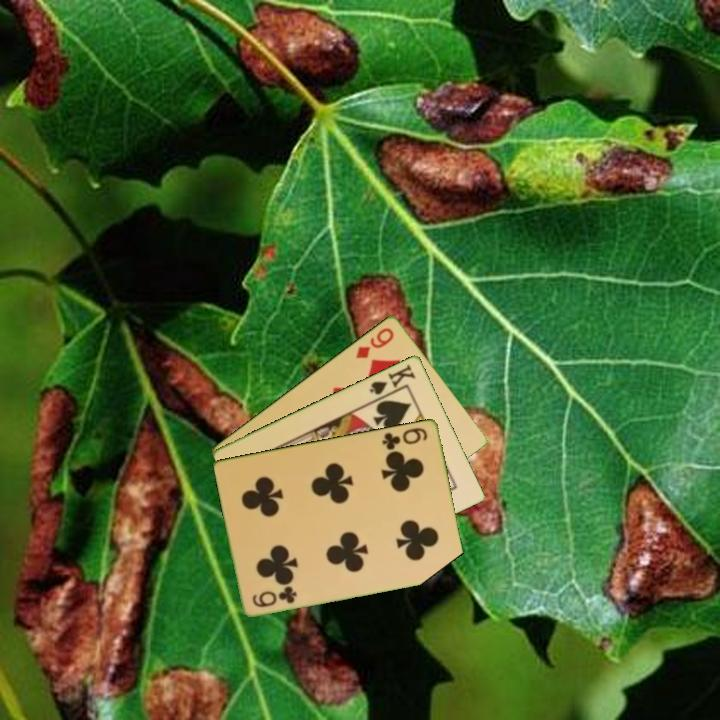6c: (378, 424, 430, 453), (249, 583, 300, 610)
9d: (352, 324, 397, 361)
Ks: (366, 360, 418, 402)
